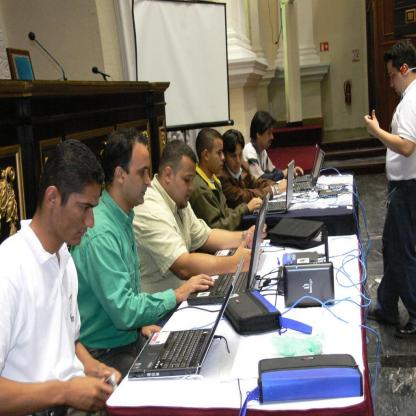board: (102, 268, 244, 398), (187, 190, 270, 306), (252, 158, 295, 214), (292, 148, 326, 192), (293, 144, 317, 182)
